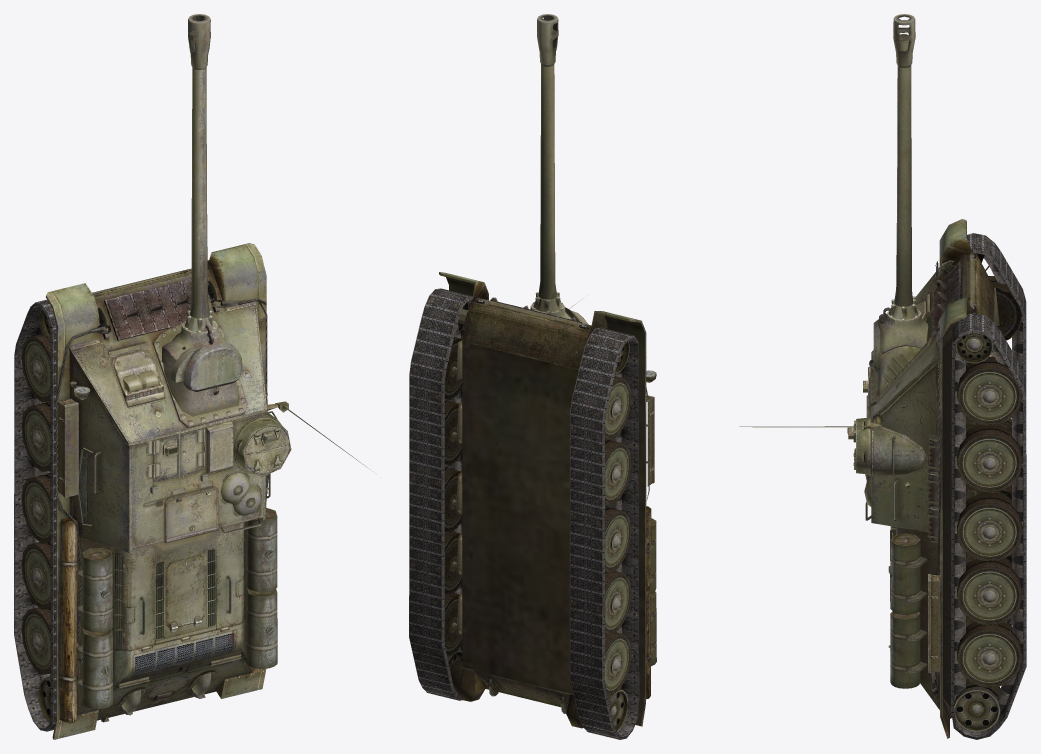
The picture shows the model from 3 angles, left to right: view 1: azimuth 30°, elevation 25°; view 2: azimuth 150°, elevation 25°; view 3: azimuth 270°, elevation 25°; orthographic projection. The views are drawn at different scales.
Visible parts, largest first — view 1: hull, chassis_track_L, gun_06, gun_05, gun_02, chassis_wheel_L_04, chassis_wheel_L_03, chassis_wheel_L_05, chassis_wheel_L_06, chassis_wheel_L_02, gun_01; view 2: hull, chassis_track_L, chassis_track_R, gun_06, chassis_wheel_L_03, chassis_wheel_L_04, chassis_wheel_L_05, chassis_wheel_L_06, chassis_wheel_L_02, chassis_wheel_R_03, chassis_wheel_R_05, chassis_wheel_R_04 (+4 smaller); view 3: hull, chassis_track_R, chassis_wheel_R_04, chassis_wheel_R_03, gun_06, chassis_wheel_R_05, chassis_wheel_R_06, chassis_wheel_R_02, chassis_track_L, gun_02, chassis_wheel_R_07, gun_01 (+2 smaller).
Boxes of the visible parts, x1,y1,x2,y2 form: hull: (46,243,367,739); chassis_track_L: (14,299,56,731); gun_06: (171,14,239,376); gun_05: (171,321,242,388); gun_02: (171,42,222,375); chassis_wheel_L_04: (21,473,50,543); chassis_wheel_L_03: (21,401,50,471); chassis_wheel_L_05: (21,542,50,609); chassis_wheel_L_06: (21,607,50,674); chassis_wheel_L_02: (21,334,50,402); gun_01: (162,322,239,391); hull: (439,272,656,728); chassis_track_L: (569,327,639,739); chassis_track_R: (409,288,472,700); gun_06: (537,14,579,321); chassis_wheel_L_03: (605,439,631,504); chassis_wheel_L_04: (605,506,631,572); chassis_wheel_L_05: (605,571,631,634); chassis_wheel_L_06: (605,632,631,695); chassis_wheel_L_02: (605,376,631,439); chassis_wheel_R_03: (444,400,462,465); chassis_wheel_R_05: (444,531,462,594); chassis_wheel_R_04: (444,467,462,532); hull: (739,219,1000,738); chassis_track_R: (951,313,1026,739); chassis_wheel_R_04: (957,492,1022,561); chassis_wheel_R_03: (957,424,1022,492); gun_06: (875,14,915,351); chassis_wheel_R_05: (957,559,1022,624); chassis_wheel_R_06: (957,622,1022,687); chassis_wheel_R_02: (957,356,1022,425); chassis_track_L: (967,233,1026,625); gun_02: (877,33,918,369); chassis_wheel_R_07: (954,684,1000,732); gun_01: (874,310,928,372).
Size of the model in its own units: 3.07 by 9.74 by 4.42.
2 materials, 2 textured.
